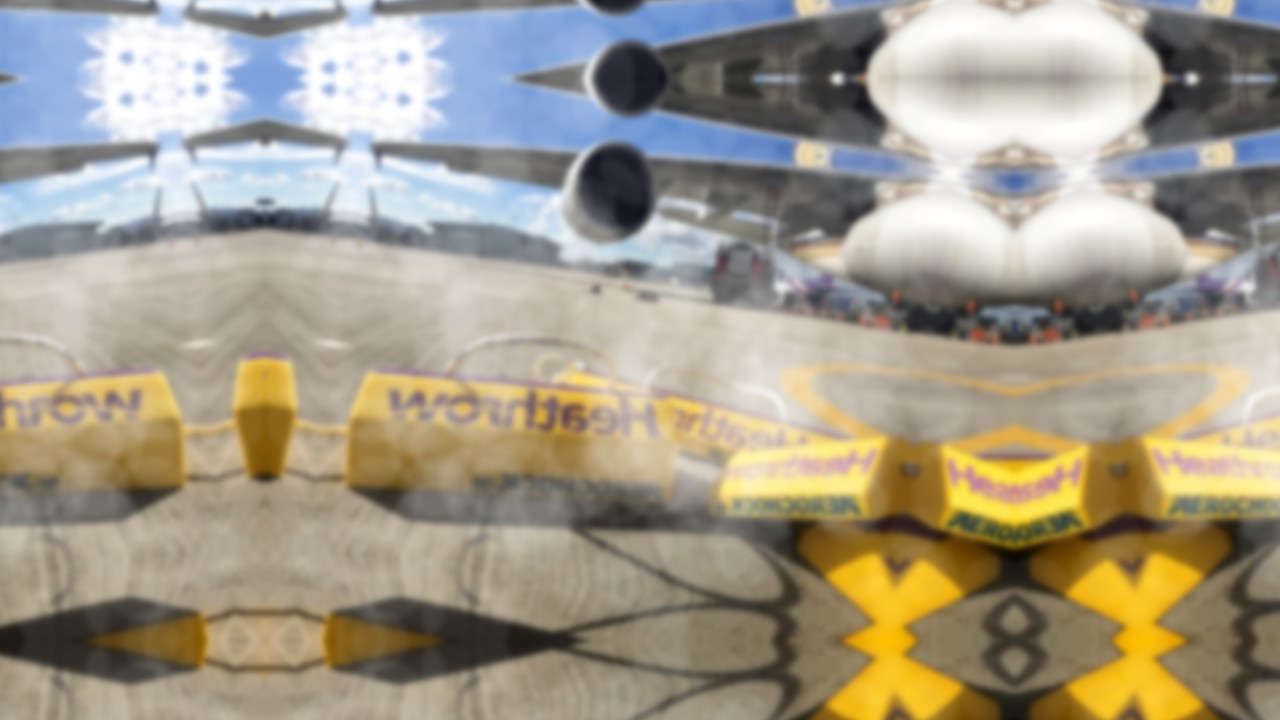chock: (340, 350, 688, 533), (557, 366, 867, 486), (0, 350, 190, 533), (704, 411, 913, 541), (1117, 411, 1280, 541), (903, 438, 1015, 568), (1015, 438, 1127, 568), (787, 504, 904, 625), (890, 518, 1007, 639), (1126, 504, 1243, 625), (1023, 518, 1140, 639), (1163, 366, 1280, 486), (890, 643, 1007, 720), (1023, 643, 1140, 720), (787, 657, 904, 720), (1126, 657, 1243, 720)
